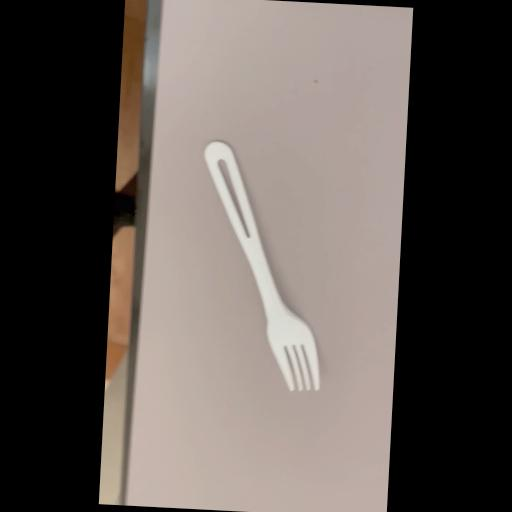utensil: (200, 139, 334, 392)
